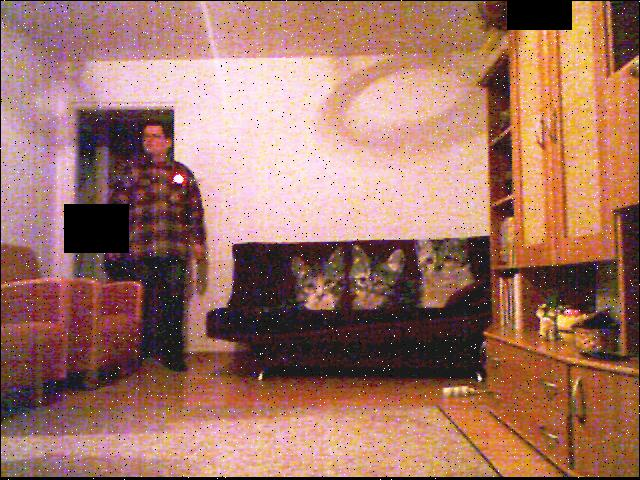walking: (96, 106, 214, 425)
